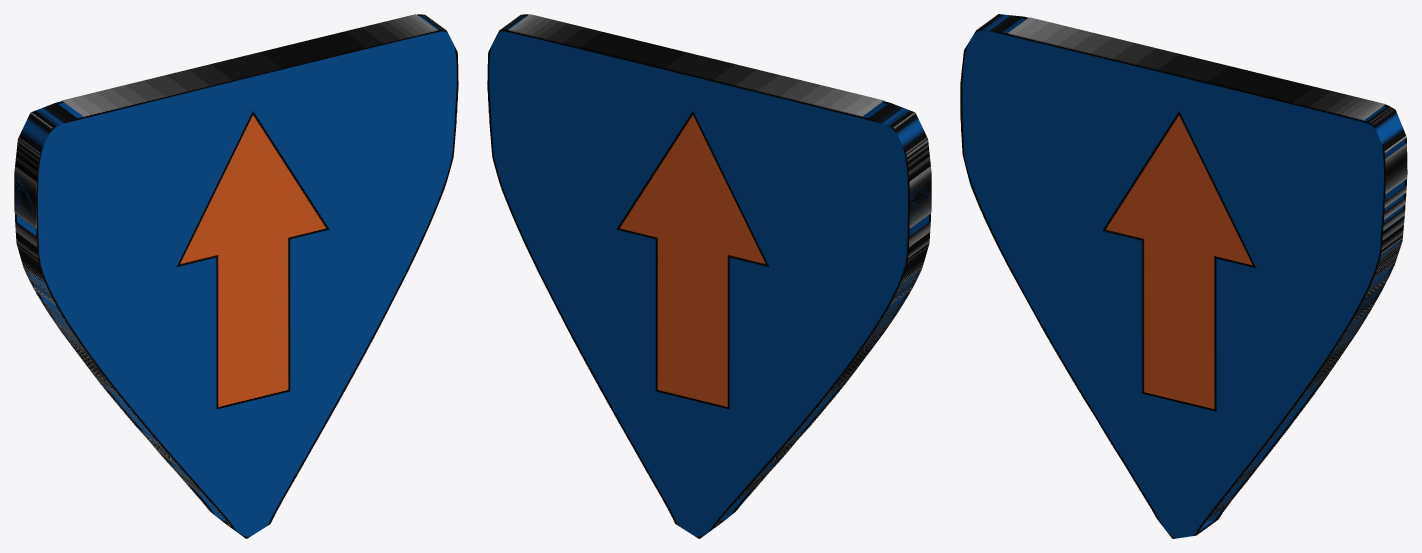
The model's file is Bounce Pickup.fbx.
3 views of the same model, side by side, from view 1: azimuth 30°, elevation 25°; view 2: azimuth 150°, elevation 25°; view 3: azimuth 330°, elevation 25° (orthographic).
Visible parts, largest first — view 1: polySurface2; view 2: polySurface2; view 3: polySurface2.
Boxes of the visible parts, x1,y1,x2,y2 form: polySurface2: [14, 14, 458, 538]; polySurface2: [487, 14, 931, 538]; polySurface2: [960, 14, 1407, 538].
Bounding box in the file's own units: 14.39 × 15.05 × 1.26.
1 material, 1 textured.
